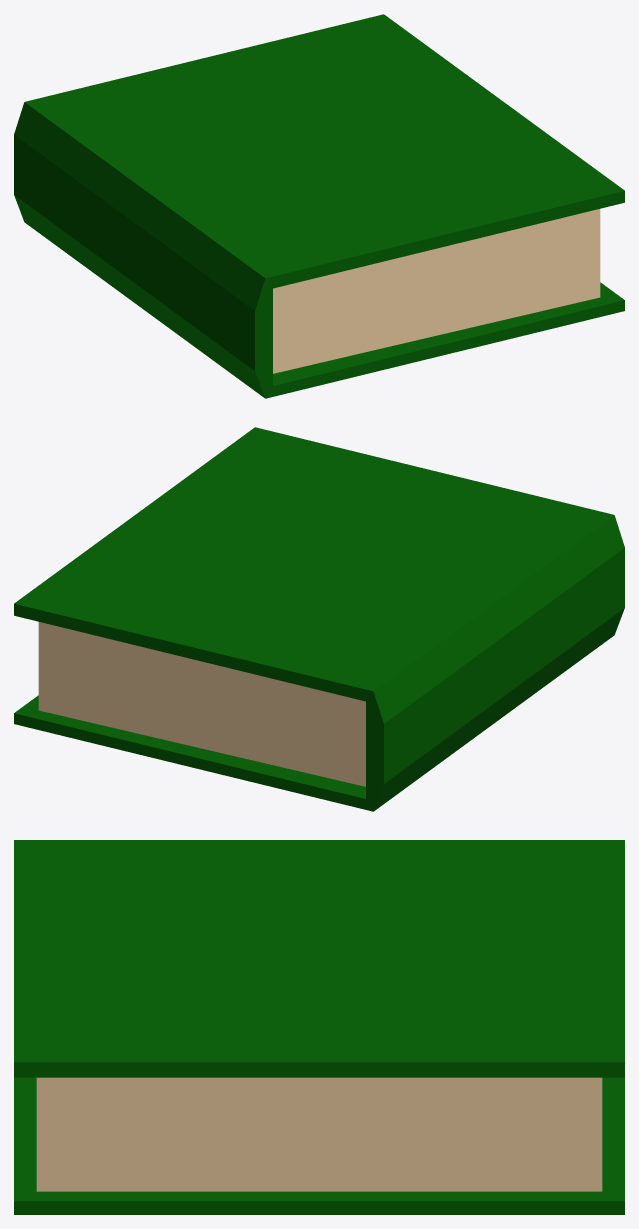
Rendered from Prop_Book_Green_01.FBX.
3 renders of one model, top to bottom at view 1: azimuth 30°, elevation 25°; view 2: azimuth 150°, elevation 25°; view 3: azimuth 270°, elevation 25°, orthographic. The views are drawn at different scales.
Parts seen in each view (by area): view 1: Prop_Book_Green_01; view 2: Prop_Book_Green_01; view 3: Prop_Book_Green_01.
Part boxes in pixels (x1,y1,x2,y2): Prop_Book_Green_01: (14,14,624,398); Prop_Book_Green_01: (14,427,624,811); Prop_Book_Green_01: (14,840,624,1214).
Size of the model in its own units: 341 by 106 by 385.
